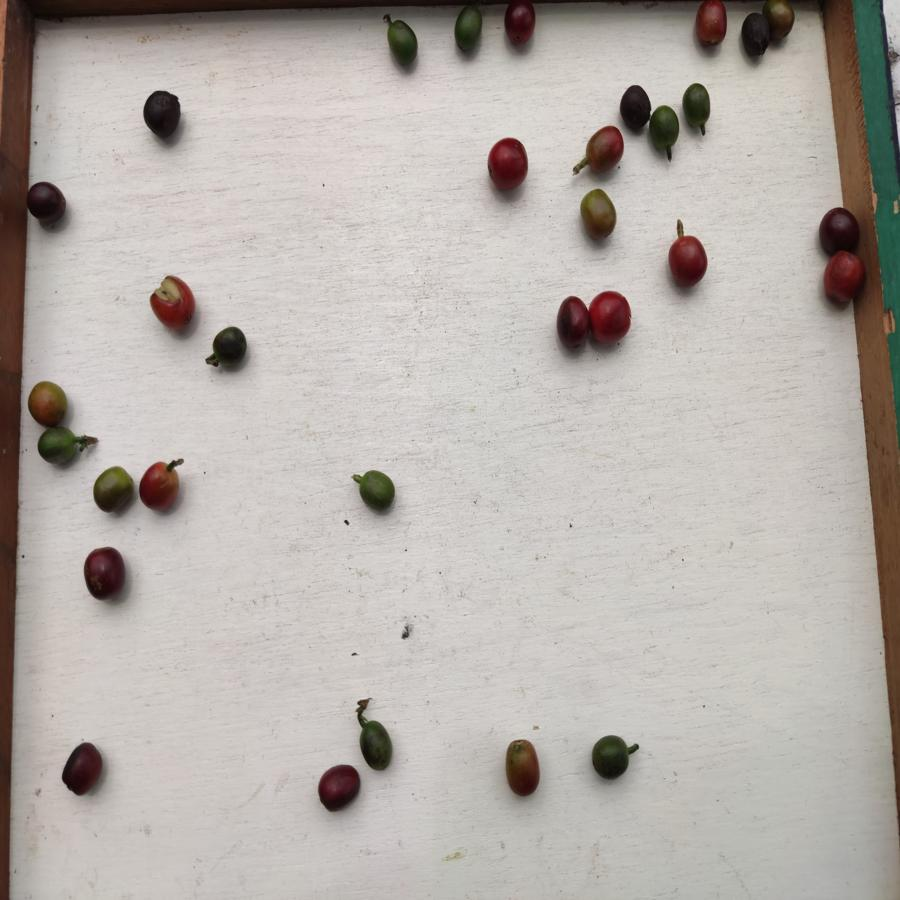Inmaduro: (32, 424, 83, 470), (588, 735, 633, 780), (382, 19, 421, 70), (357, 718, 393, 771), (354, 470, 395, 514), (211, 326, 249, 368), (453, 5, 484, 56), (649, 102, 680, 150), (680, 82, 713, 126)
Maduro: (149, 274, 197, 335), (823, 251, 865, 310), (486, 135, 529, 192), (138, 459, 180, 517), (590, 289, 633, 344), (669, 232, 711, 288), (695, 1, 729, 50)
Pinton: (93, 460, 133, 518), (23, 380, 71, 428), (501, 738, 540, 796), (583, 126, 625, 174), (579, 189, 616, 241), (771, 1, 795, 42)
Sobremaduro: (80, 545, 130, 598), (60, 741, 103, 795), (139, 91, 185, 139), (817, 202, 859, 254), (317, 765, 362, 811), (26, 180, 68, 225), (557, 292, 589, 350), (502, 1, 540, 48), (737, 11, 771, 61), (620, 81, 650, 129)
